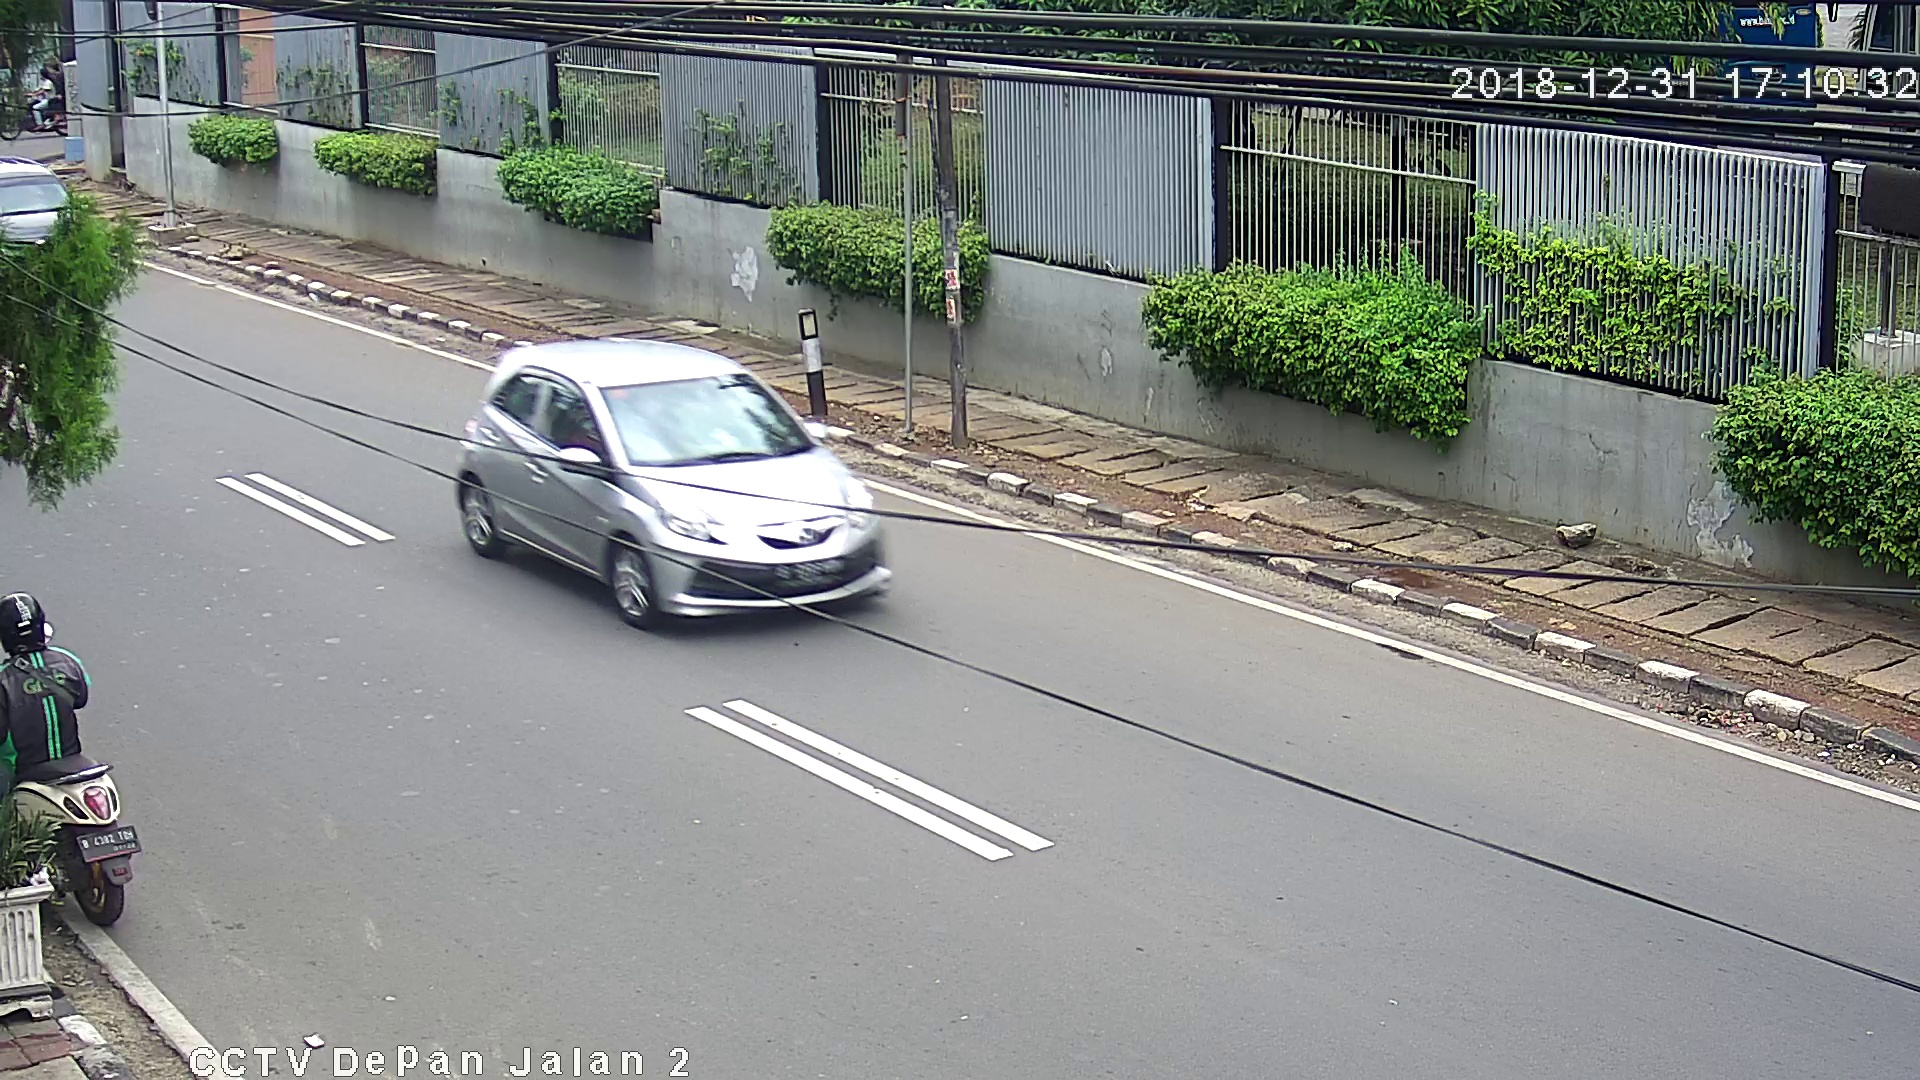car: (448, 343, 893, 629)
motorcycle: (1, 593, 142, 945)
